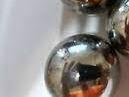ironball: (38, 26, 122, 96), (107, 0, 128, 66), (46, 0, 119, 11)
